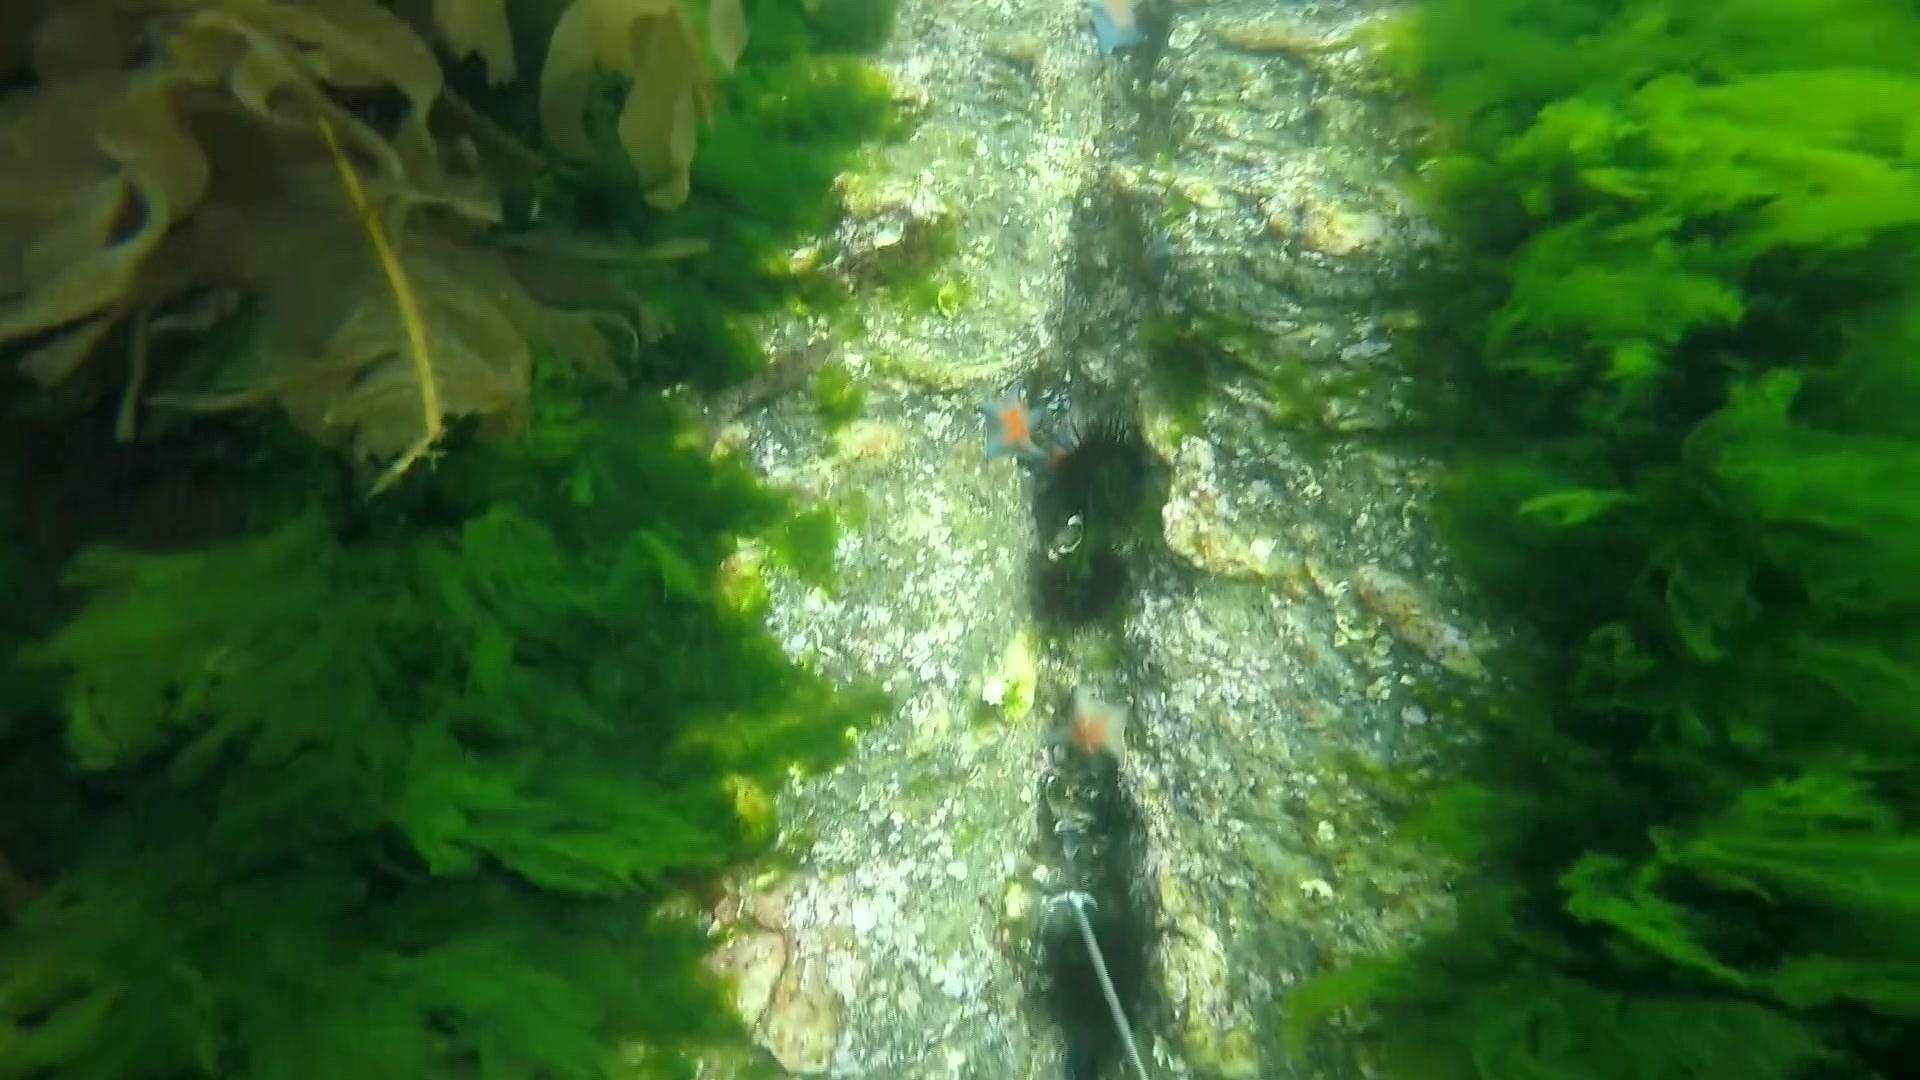echinus: (1029, 899, 1174, 1063), (1042, 415, 1162, 535), (1023, 535, 1139, 636)
starfish: (1043, 680, 1143, 783), (967, 378, 1060, 475), (1073, 0, 1156, 61)
